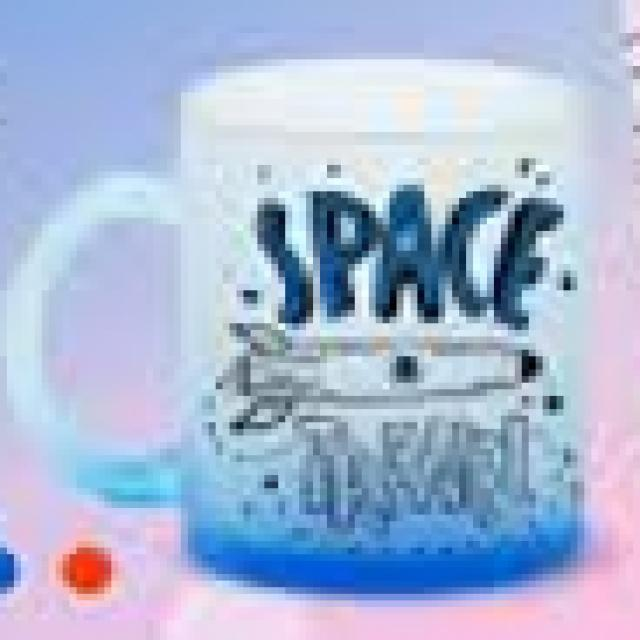taza: (8, 57, 594, 602)
